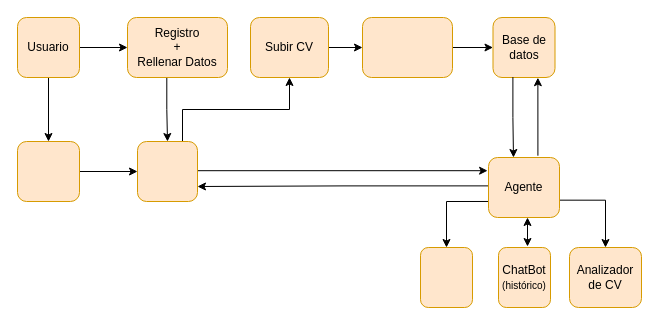
Image size: 659x325. Some labels were removed from this diagram. Here are the shapes that lost their labels. From the top down, the box of each, then its label:
(362, 16, 452, 78): Anonimización de Datos
(16, 140, 80, 202): Loging
(136, 140, 198, 202): Usuario Logeado
(420, 246, 472, 308): RAG
